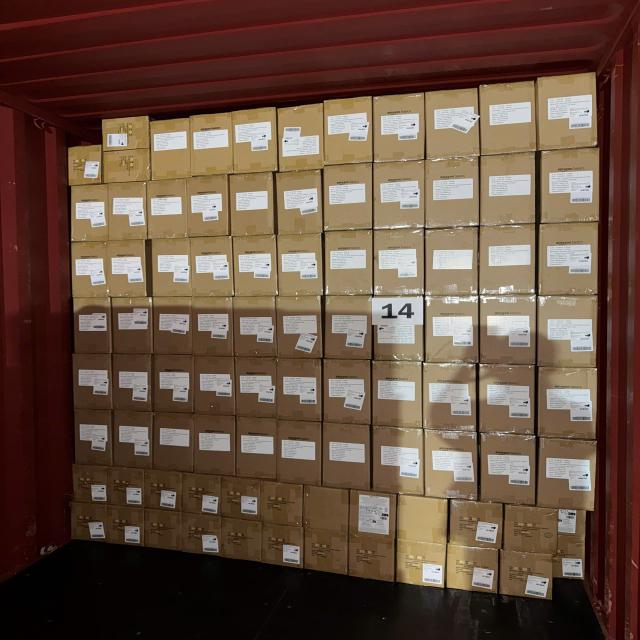Carton: (538, 73, 600, 152), (538, 148, 600, 224), (536, 298, 599, 371), (537, 368, 598, 442), (538, 224, 599, 298), (537, 440, 597, 514), (481, 155, 537, 229), (478, 364, 535, 436), (480, 435, 537, 507), (480, 298, 538, 368), (480, 227, 537, 298), (481, 85, 537, 157), (423, 157, 478, 230), (422, 363, 476, 435), (428, 90, 482, 162), (423, 428, 477, 499), (424, 294, 479, 363), (375, 160, 427, 230), (371, 425, 422, 496), (425, 229, 478, 297), (374, 362, 425, 432), (372, 94, 423, 162), (326, 96, 375, 166), (374, 298, 426, 363), (325, 165, 375, 232), (376, 232, 426, 297), (322, 422, 370, 488), (326, 232, 375, 296), (324, 361, 372, 426), (278, 104, 323, 172), (276, 170, 322, 236), (326, 297, 373, 361), (229, 174, 275, 238), (232, 107, 275, 174), (275, 420, 320, 484), (276, 298, 322, 360), (277, 361, 322, 424), (396, 536, 448, 590), (399, 493, 450, 548), (278, 234, 322, 297), (236, 297, 279, 360), (502, 550, 556, 600), (192, 113, 234, 177), (346, 531, 397, 583), (444, 545, 498, 594), (232, 236, 275, 297), (233, 357, 275, 419), (234, 416, 274, 481), (347, 488, 396, 541), (449, 504, 504, 551), (192, 237, 234, 298), (190, 175, 230, 239), (502, 507, 556, 554), (195, 354, 237, 414), (194, 299, 235, 360), (153, 414, 194, 475), (302, 525, 350, 577), (153, 119, 193, 181), (113, 299, 155, 358), (113, 354, 154, 414), (196, 414, 237, 474), (302, 484, 351, 534), (152, 352, 192, 413), (115, 410, 155, 470), (146, 181, 186, 241), (150, 239, 190, 298), (111, 183, 149, 243), (152, 296, 191, 354), (69, 185, 107, 244), (74, 351, 112, 409), (111, 241, 149, 299), (71, 243, 109, 300), (73, 299, 109, 358), (74, 408, 110, 467), (220, 518, 264, 565), (262, 526, 305, 573), (101, 113, 151, 152), (261, 481, 304, 526), (102, 147, 152, 184), (220, 476, 260, 521), (142, 512, 181, 556), (184, 516, 222, 560), (142, 471, 182, 512), (71, 503, 110, 545), (184, 472, 222, 514), (109, 508, 145, 550), (110, 468, 146, 509), (68, 145, 104, 185), (72, 465, 107, 505)
